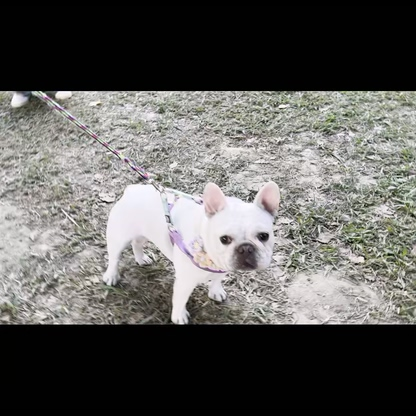bulldog: (98, 175, 284, 322)
